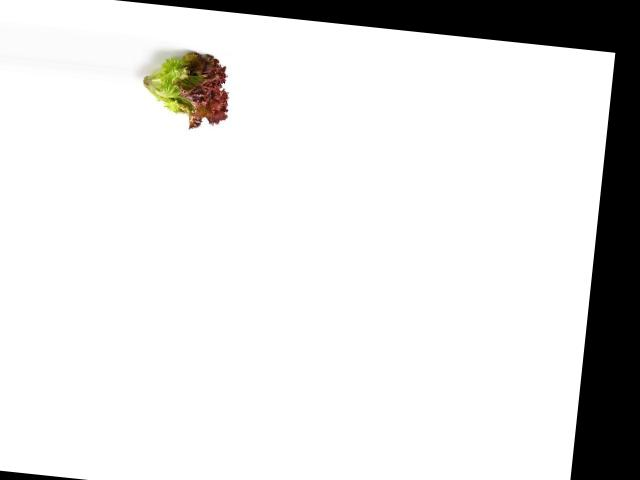lettuce: (127, 44, 238, 130)
